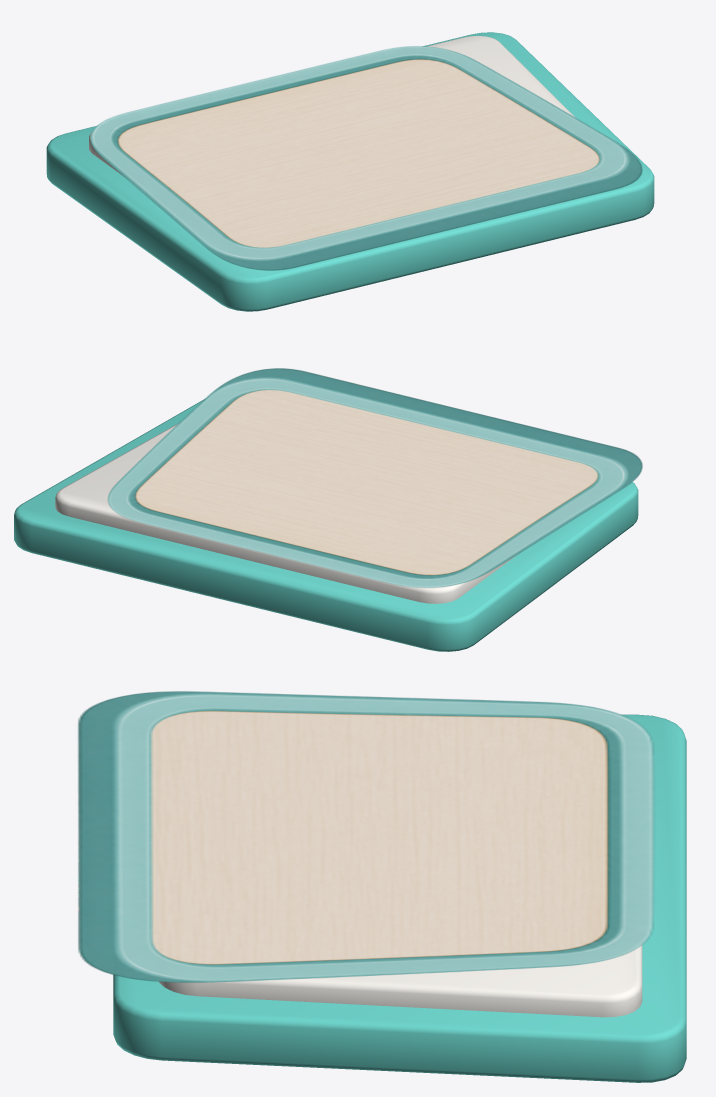
File: pickup_tray.glb
3 renders of one model, top to bottom at view 1: azimuth 30°, elevation 25°; view 2: azimuth 150°, elevation 25°; view 3: azimuth 270°, elevation 25°, orthographic. The views are drawn at different scales.
Visible parts, largest first — view 1: TrayTexture, Mint, Cream; view 2: TrayTexture, Mint, Cream; view 3: TrayTexture, Mint, Cream.
Part boxes in pixels (x1=…): TrayTexture: x1=90, y1=46, x2=642, y2=270; Mint: x1=46, y1=32, x2=654, y2=311; Cream: x1=89, y1=35, x2=575, y2=176; TrayTexture: x1=107, y1=368, x2=642, y2=587; Mint: x1=14, y1=399, x2=638, y2=651; Cream: x1=55, y1=423, x2=518, y2=603; TrayTexture: x1=78, y1=691, x2=654, y2=982; Mint: x1=113, y1=714, x2=686, y2=1082; Cream: x1=159, y1=944, x2=642, y2=1017.
Size of the model in its own units: 0.36 by 0.035 by 0.312.
3 materials, 1 textured.
